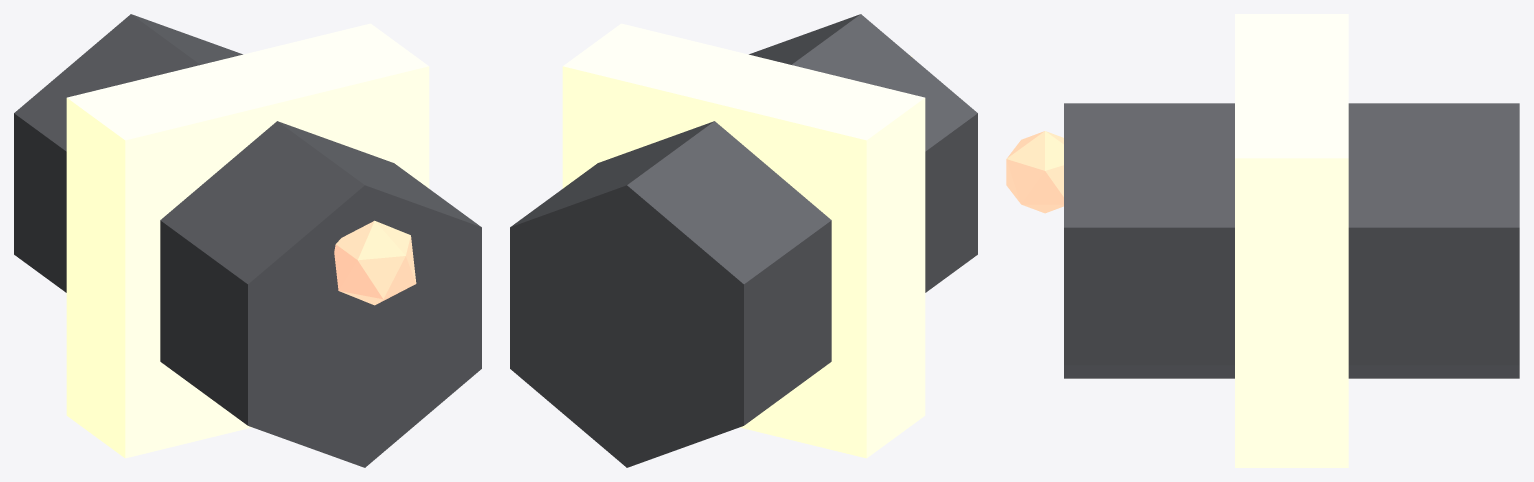
Rendered from Proj_AegisCharge.fbx.
The picture shows the model from 3 angles, left to right: view 1: azimuth 30°, elevation 25°; view 2: azimuth 150°, elevation 25°; view 3: azimuth 270°, elevation 25°; orthographic projection. The views are drawn at different scales.
Visible parts, largest first — view 1: PCH_Body, PCH_Strap, PCH_Blink; view 2: PCH_Body, PCH_Strap; view 3: PCH_Body, PCH_Strap, PCH_Blink.
Part boxes in pixels (x1,y1,x2,y2): PCH_Body: (14,14,481,467); PCH_Strap: (66,23,429,458); PCH_Blink: (334,220,416,305); PCH_Body: (510,14,977,467); PCH_Strap: (562,23,925,458); PCH_Body: (1064,103,1519,378); PCH_Strap: (1235,14,1348,467); PCH_Blink: (1006,131,1063,213).
Size of the model in its own units: 0.09 by 0.09 by 0.1352.
